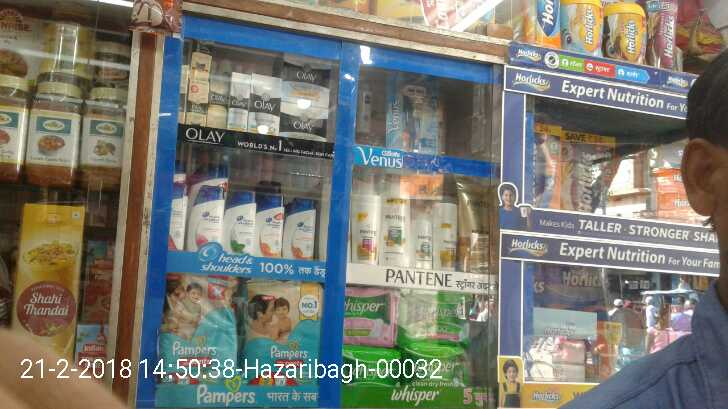venus: (389, 73, 437, 157)
